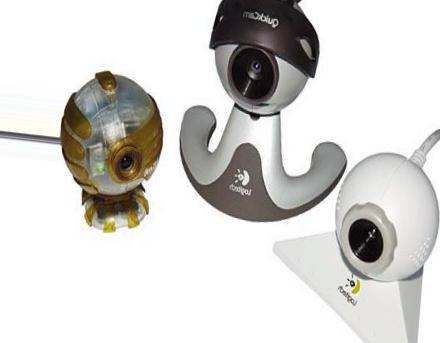webcam: (191, 1, 341, 118), (326, 149, 440, 285), (56, 70, 171, 202)
